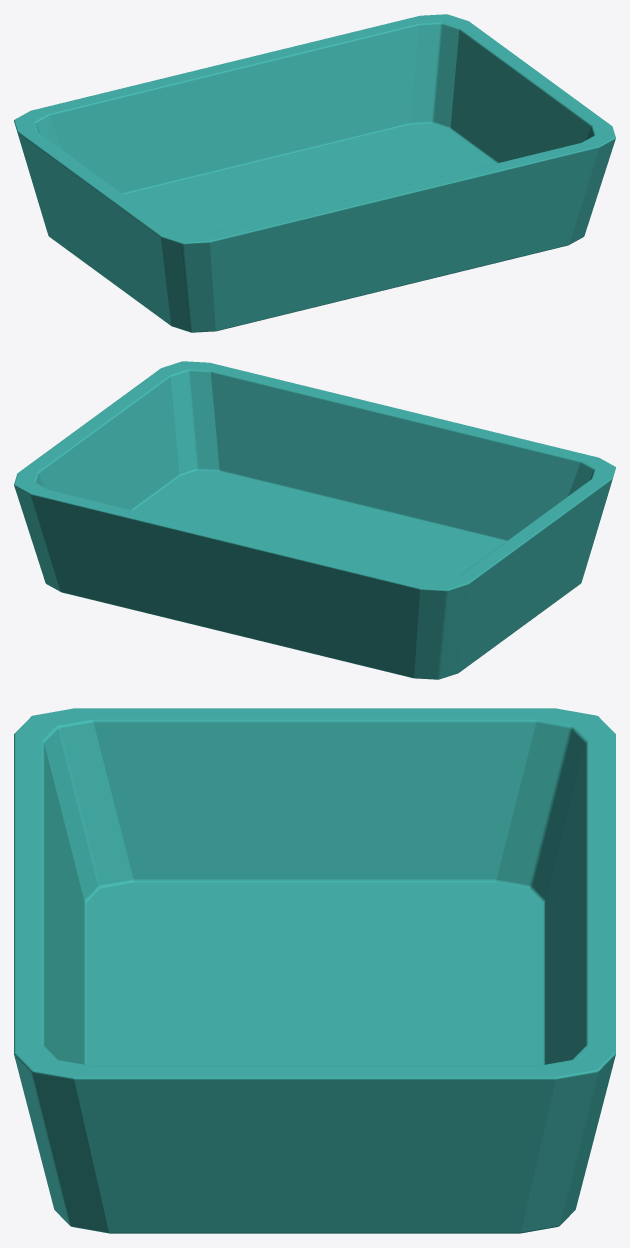
The model's file is asset.fbx.
The picture shows the model from 3 angles, top to bottom: view 1: azimuth 30°, elevation 25°; view 2: azimuth 150°, elevation 25°; view 3: azimuth 270°, elevation 25°; orthographic projection. The views are drawn at different scales.
Parts seen in each view (by area): view 1: radcare_irrigation_basin_hollow_basin_integrated_thick_rim; view 2: radcare_irrigation_basin_hollow_basin_integrated_thick_rim; view 3: radcare_irrigation_basin_hollow_basin_integrated_thick_rim.
Boxes of the visible parts, <box> form: radcare_irrigation_basin_hollow_basin_integrated_thick_rim: <box>14,14,615,332</box>; radcare_irrigation_basin_hollow_basin_integrated_thick_rim: <box>14,361,615,679</box>; radcare_irrigation_basin_hollow_basin_integrated_thick_rim: <box>14,708,615,1233</box>.
Size of the model in its own units: 0.32 by 0.07 by 0.22.
